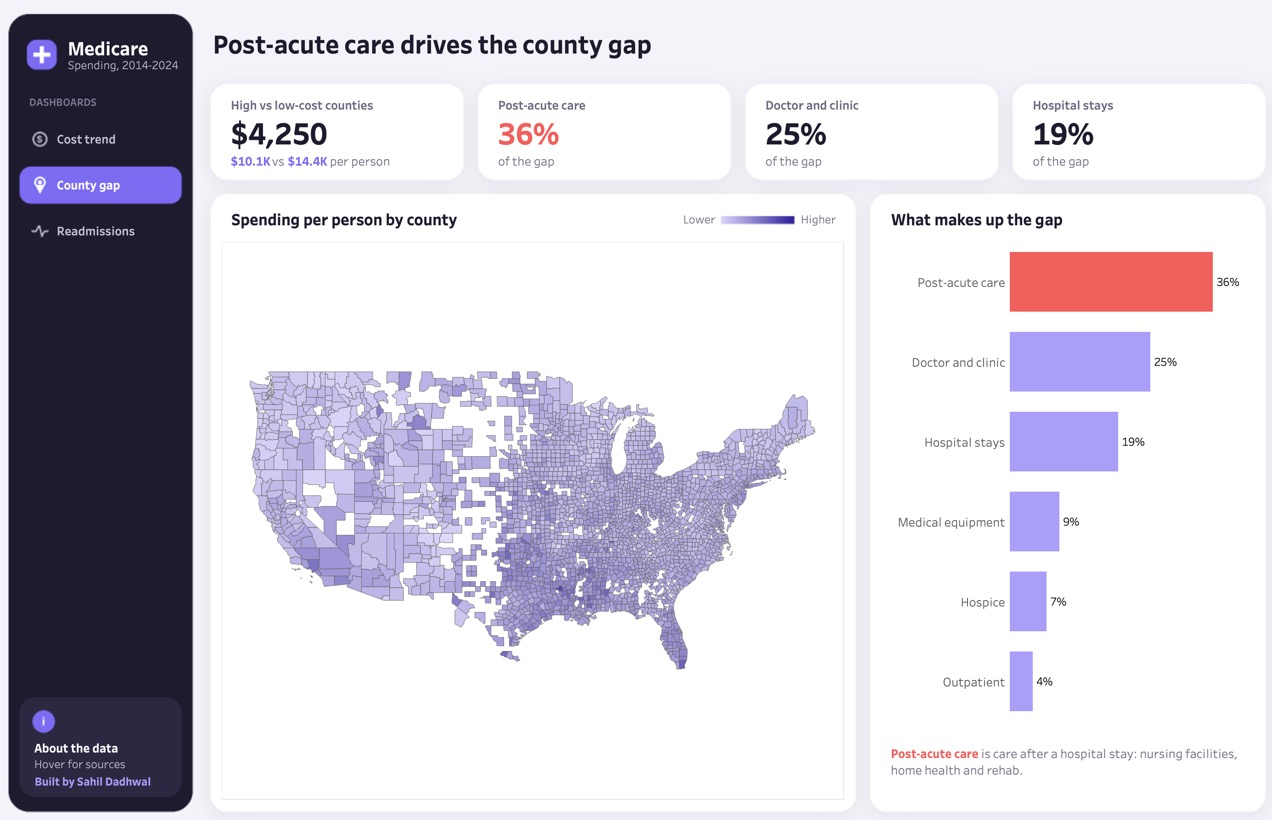

The dashboard page shown, as its layout file describes it:
{"tool":"tableau","page":{"name":"2 County Gap","canvas":[1400,900],"ordinal":1},"visuals":[{"type":"image","param":"Image/bg_tab2.png","box":[0,0,1400,900]},{"type":"text","box":[236,30,1148,36]},{"type":"text","box":[78,42,130,22]},{"type":"text","box":[78,63,130,16]},{"type":"worksheet","title":"T2 KPI Gap","mark":"Text","box":[254,102,249,88]},{"type":"worksheet","title":"T2 KPI Post-acute care","mark":"Text","box":[545,102,249,88]},{"type":"worksheet","title":"T2 KPI Doctor and clinic","mark":"Text","box":[836,102,249,88]},{"type":"worksheet","title":"T2 KPI Hospital stays","mark":"Text","box":[1127,102,249,88]},{"type":"text","box":[36,104,150,16]},{"type":"dashboard-object","box":[28,132,176,40]},{"type":"text","box":[66,143,138,18]},{"type":"text","box":[66,193,138,18]},{"type":"text","box":[256,228,661.8,22]},{"type":"text","box":[973.8,228,390.2,22]},{"type":"text","box":[747.8,231,40,16]},{"type":"text","box":[875.8,231,44,16]},{"type":"dashboard-object","box":[28,232,176,40]},{"type":"text","box":[66,243,138,18]},{"type":"worksheet","title":"T2 County Map","mark":"Multipolygon","box":[248,264,677.8,608]},{"type":"worksheet","title":"T2 Gap Drivers","mark":"Bar","rows":["care_group"],"cols":["share_of_gap"],"box":[965.8,264,406.2,522]},{"type":"text","box":[973.8,798,390.2,64]},{"type":"worksheet","title":"About 2 County Gap","mark":"Text","box":[40,804,158,40]},{"type":"text","box":[42,842,152,18]}]}

Visuals, with their boxes on the page's 1400x900 design canvas (x1, y1, x2, y2). These are canvas units, not pixel positions in the 1272x820 screenshot, which may show the page scaled, cropped or inside an application window:
image: left=0, top=0, right=1400, bottom=900
text: left=236, top=30, right=1384, bottom=66
text: left=78, top=42, right=208, bottom=64
text: left=78, top=63, right=208, bottom=79
"T2 KPI Gap" worksheet (Text marks): left=254, top=102, right=503, bottom=190
"T2 KPI Post-acute care" worksheet (Text marks): left=545, top=102, right=794, bottom=190
"T2 KPI Doctor and clinic" worksheet (Text marks): left=836, top=102, right=1085, bottom=190
"T2 KPI Hospital stays" worksheet (Text marks): left=1127, top=102, right=1376, bottom=190
text: left=36, top=104, right=186, bottom=120
dashboard-object: left=28, top=132, right=204, bottom=172
text: left=66, top=143, right=204, bottom=161
text: left=66, top=193, right=204, bottom=211
text: left=256, top=228, right=918, bottom=250
text: left=974, top=228, right=1364, bottom=250
text: left=748, top=231, right=788, bottom=247
text: left=876, top=231, right=920, bottom=247
dashboard-object: left=28, top=232, right=204, bottom=272
text: left=66, top=243, right=204, bottom=261
"T2 County Map" worksheet (Multipolygon marks): left=248, top=264, right=926, bottom=872
"T2 Gap Drivers" worksheet (Bar marks): left=966, top=264, right=1372, bottom=786
text: left=974, top=798, right=1364, bottom=862
"About 2 County Gap" worksheet (Text marks): left=40, top=804, right=198, bottom=844
text: left=42, top=842, right=194, bottom=860
